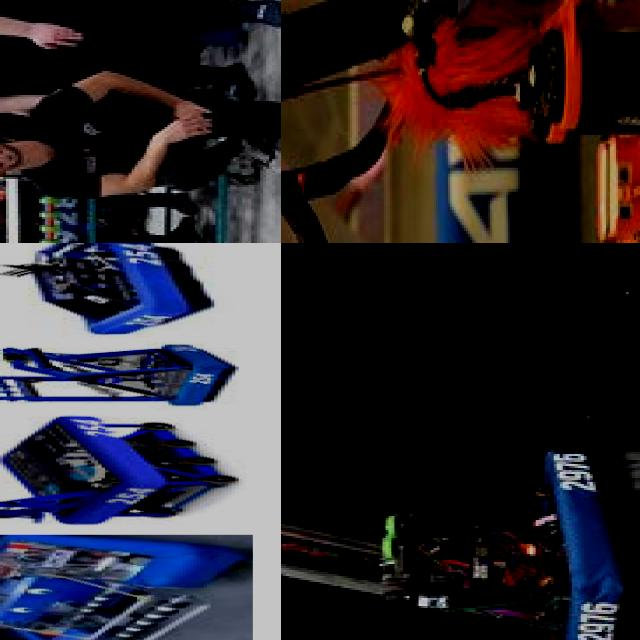FRC-Robots: (281, 0, 640, 243), (281, 414, 640, 640), (0, 531, 262, 640), (0, 417, 251, 523), (0, 243, 246, 328), (0, 336, 269, 412), (0, 144, 88, 243)
